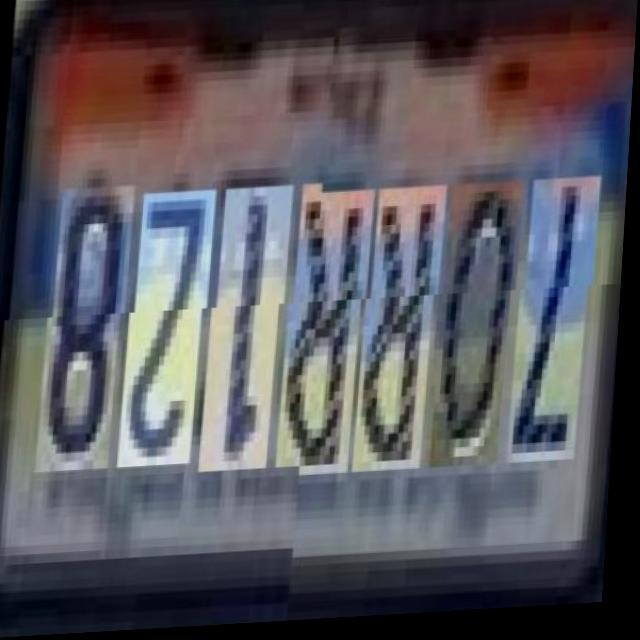1: (204, 189, 289, 476)
2: (123, 192, 213, 470)
7: (513, 174, 598, 461)
8: (41, 188, 131, 475)
o: (430, 178, 520, 465)
r: (281, 185, 371, 472), (357, 182, 443, 469)
